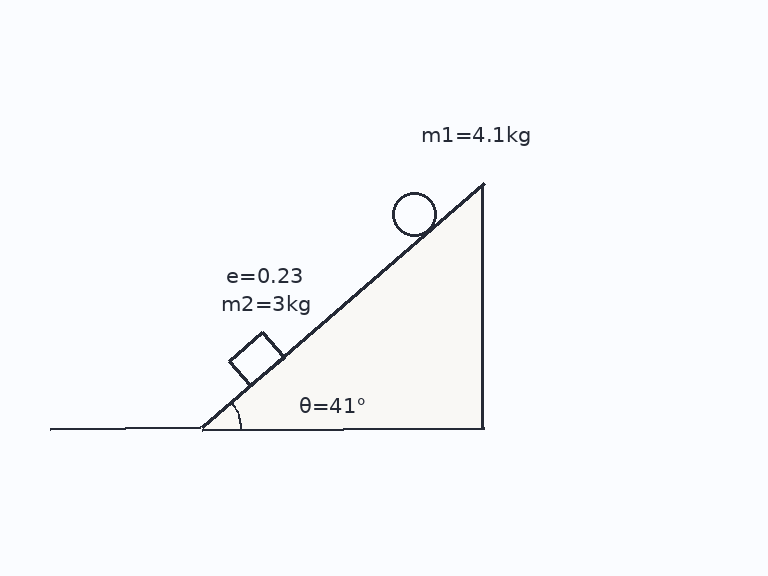ball: (390, 190, 438, 238)
block: (227, 330, 285, 387)
ramp: (199, 181, 485, 430)
